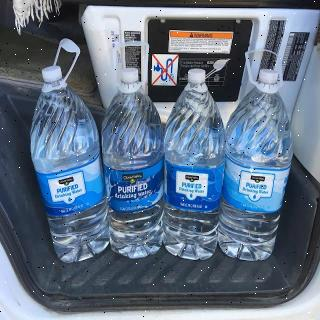Plastic-bottle: (23, 38, 110, 271), (225, 37, 290, 270), (99, 60, 170, 261), (167, 64, 228, 276)
